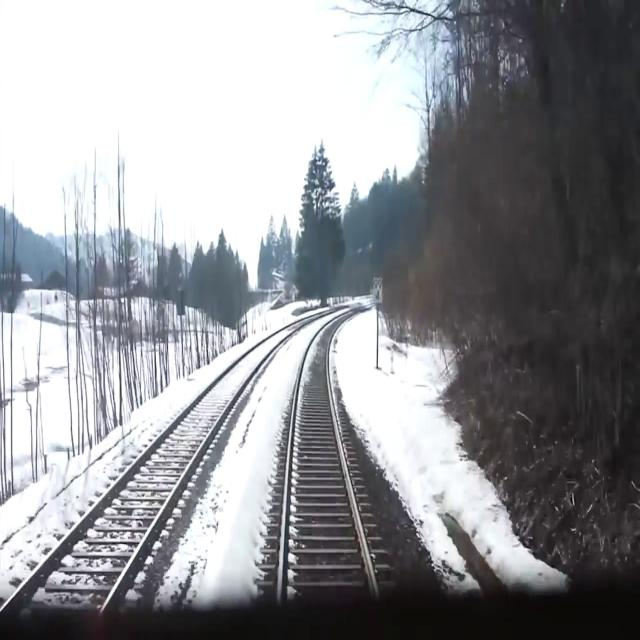rail-track: (0, 320, 306, 639), (280, 313, 386, 639)
